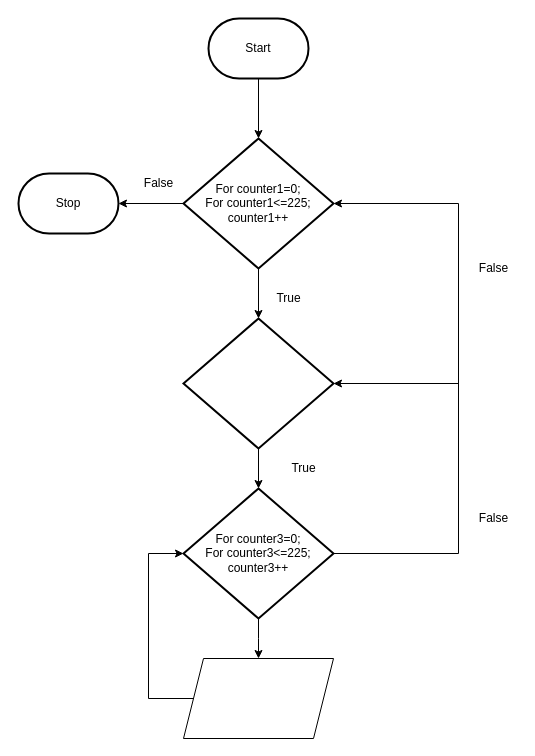
Image size: 535x756. Some labels were removed from this diagram. Each missing label, with the centre of its shape:
For counter2=0; For counter2<=225; counter2++: the point at 258,383
print({0},{1},{2}): the point at 258,698
